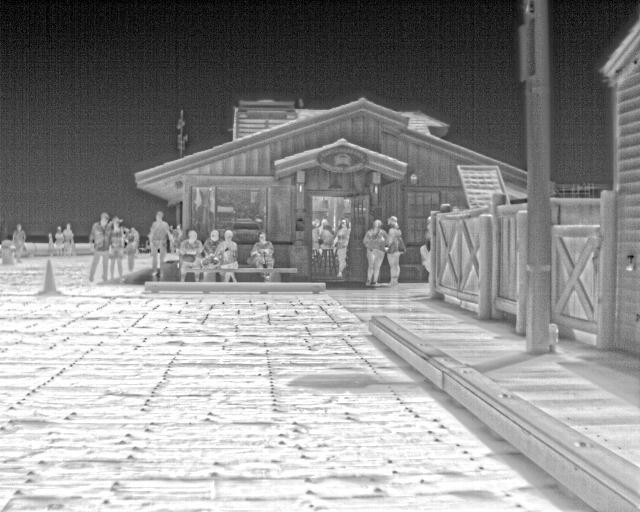empty: (86, 212, 114, 281), (146, 210, 172, 279), (362, 217, 386, 284), (384, 213, 404, 284), (251, 229, 275, 281), (214, 226, 241, 270), (109, 213, 127, 278), (177, 232, 204, 270), (332, 218, 349, 278), (202, 228, 223, 260), (12, 223, 29, 262)
